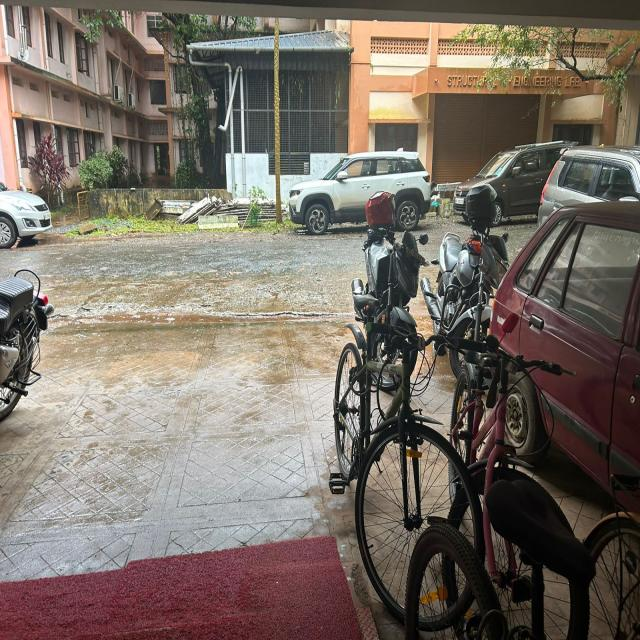bicycle ahead at: (326, 288, 492, 613)
car ahead at: (291, 150, 424, 229)
